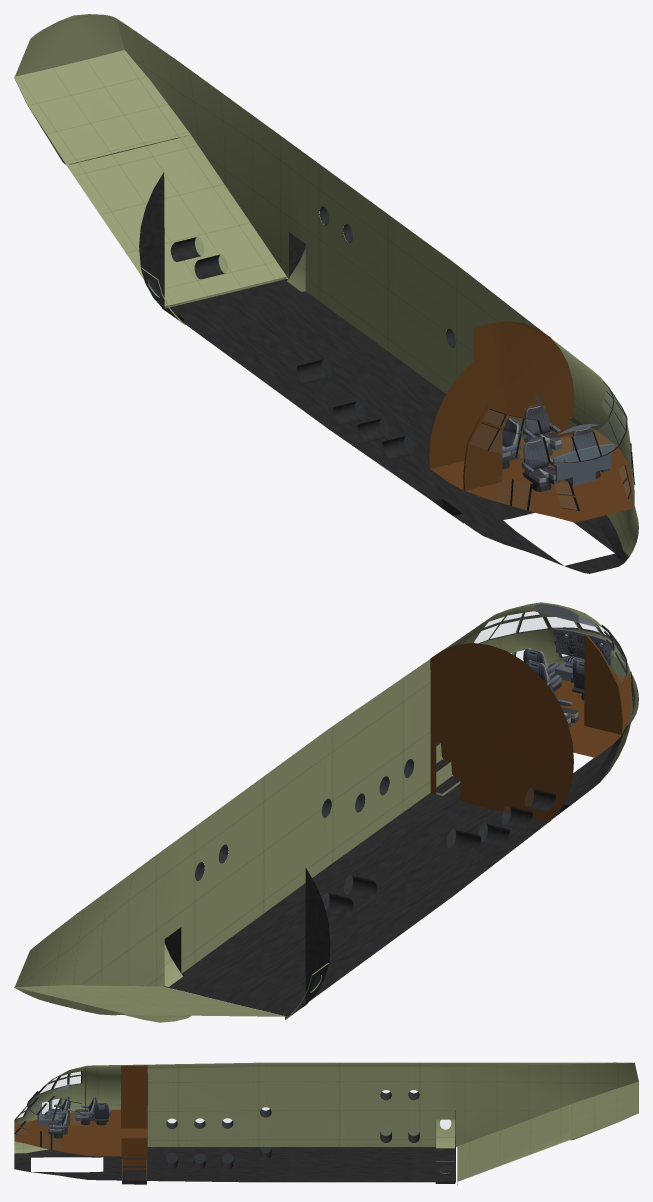
File: interior.gltf
3 renders of one model, top to bottom at view 1: azimuth 30°, elevation 25°; view 2: azimuth 150°, elevation 25°; view 3: azimuth 270°, elevation 25°, orthographic. The views are drawn at different scales.
Parts seen in each view (by area): view 1: Interior; view 2: Interior; view 3: Interior.
Part boxes in pixels (x1,y1,x2,y2): Interior: (14,14,638,573); Interior: (14,602,638,1022); Interior: (14,1062,638,1185).
Bounding box in the file's own units: 4.3 × 4.44 × 22.58.
27 materials, 26 textured.
